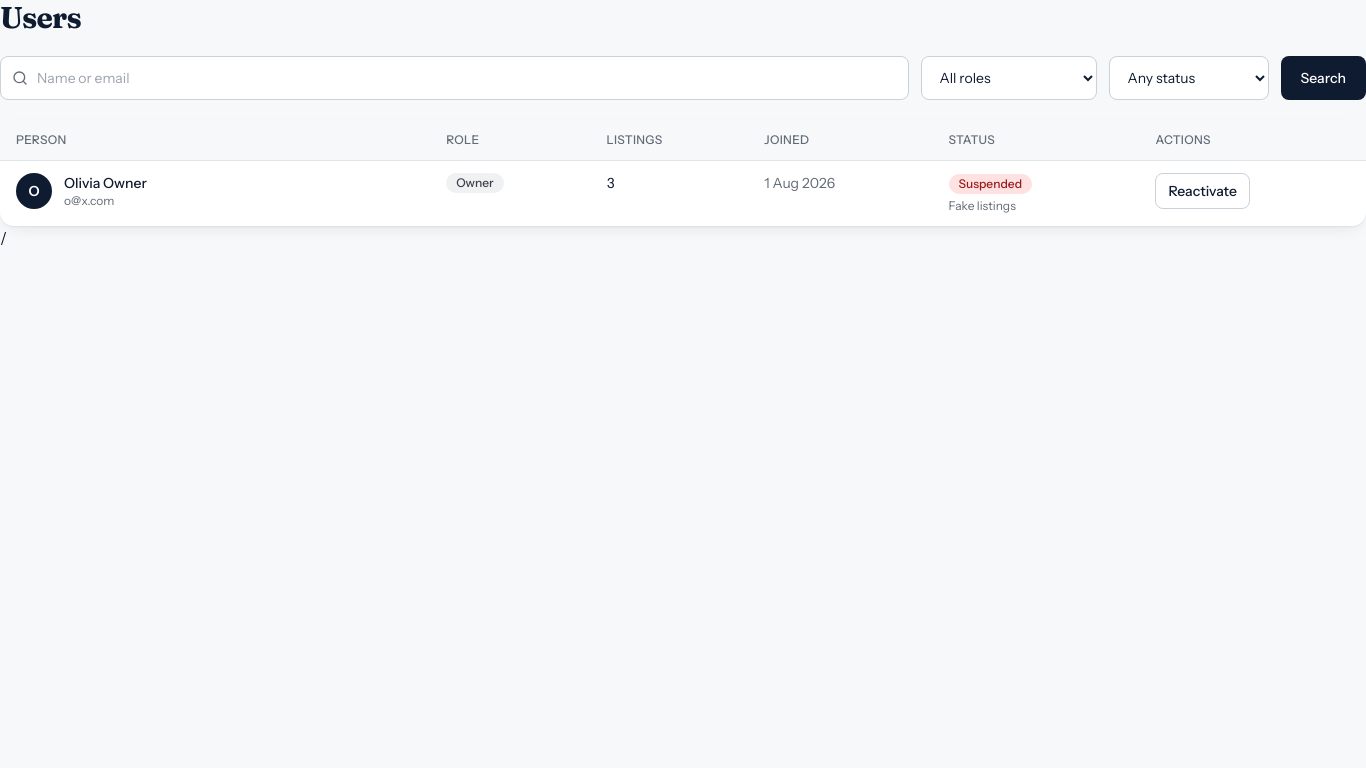
users › reactivating asks first, and needs no reason
Expected: the text "Fake listings" is shown, top-left (949, 198), bottom-right (1016, 213)
Click the button "Reactivate".
click(1203, 191)  # box top-left (1155, 173), bottom-right (1250, 209)
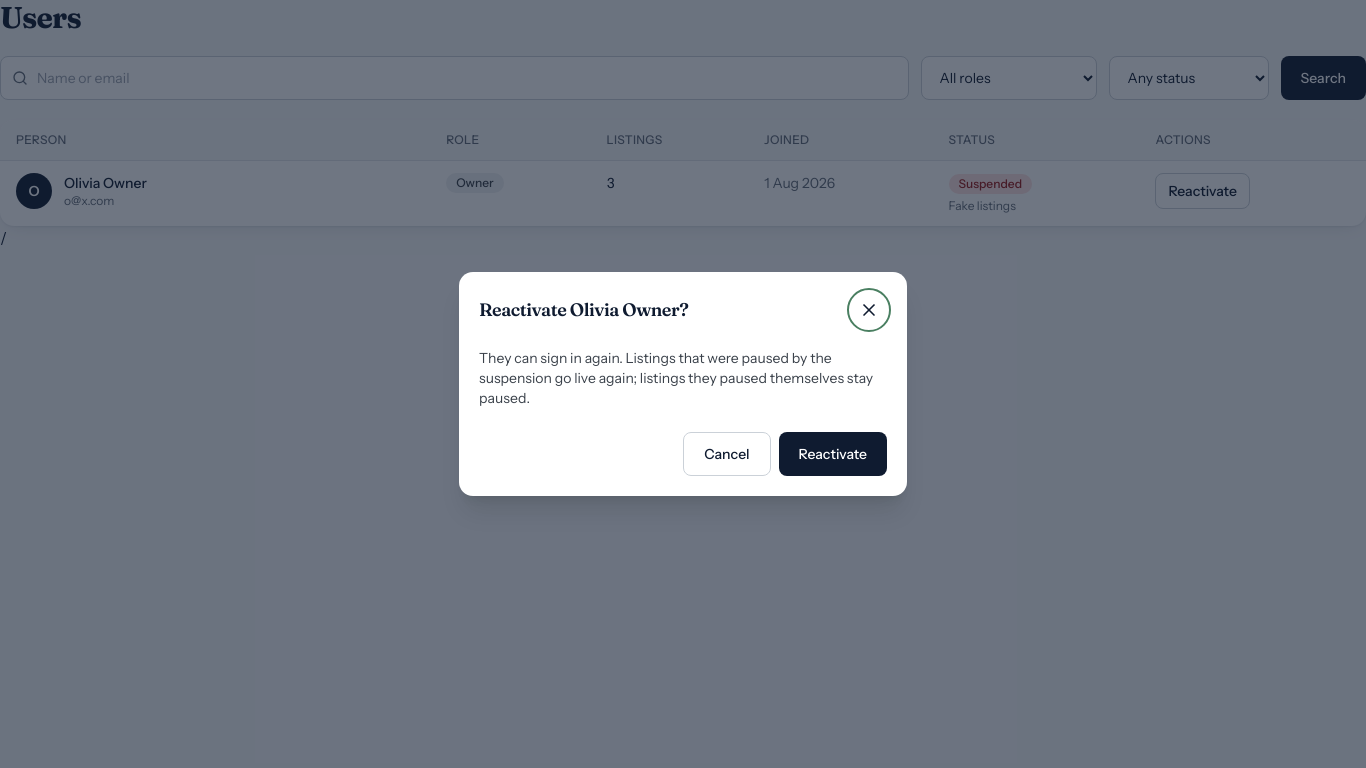
Click the button "Reactivate".
click(833, 454)  # box top-left (779, 432), bottom-right (887, 476)
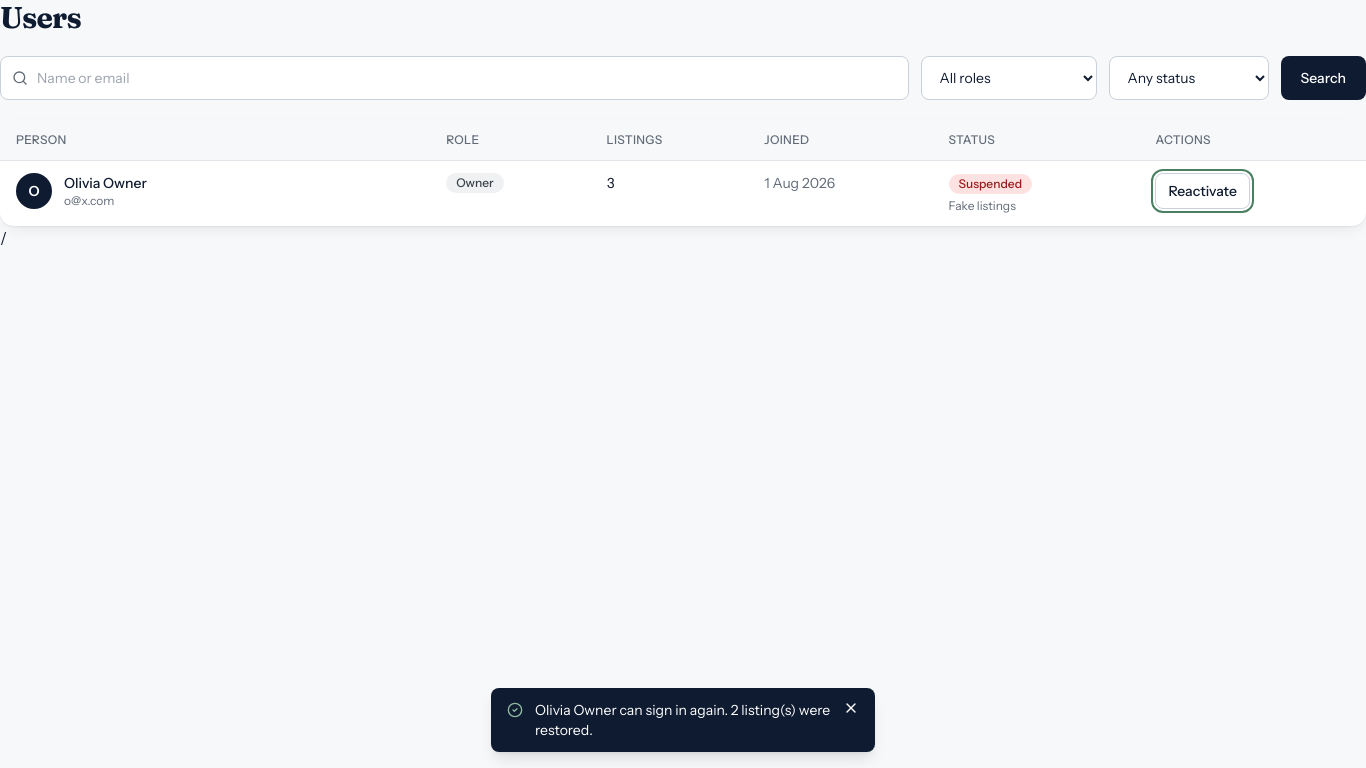
Expected: the text "Olivia Owner can sign in again. 2 listing(s) were restored." is shown, top-left (535, 700), bottom-right (831, 740)
